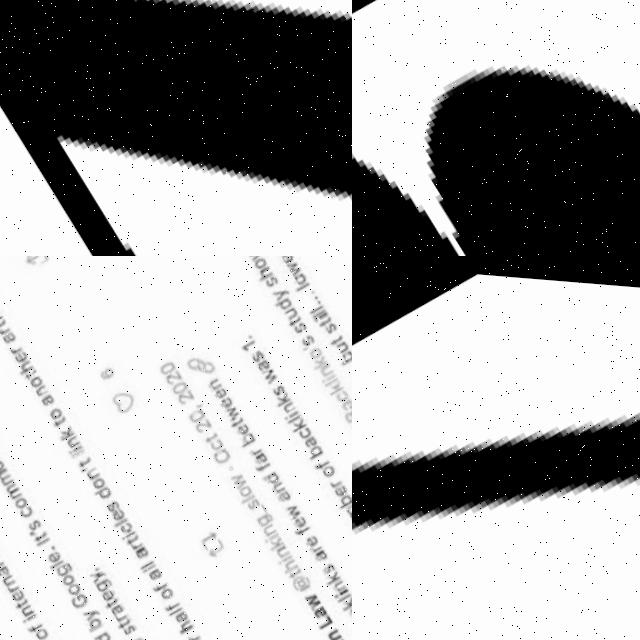0: (156, 354, 176, 372), (187, 402, 205, 419), (170, 374, 188, 391)
1: (240, 331, 256, 347)
2: (174, 383, 195, 402), (192, 411, 212, 430), (162, 363, 182, 381)
3: (352, 0, 640, 256)
6: (97, 360, 116, 379)
7: (0, 0, 352, 256)
U: (352, 256, 640, 640)
